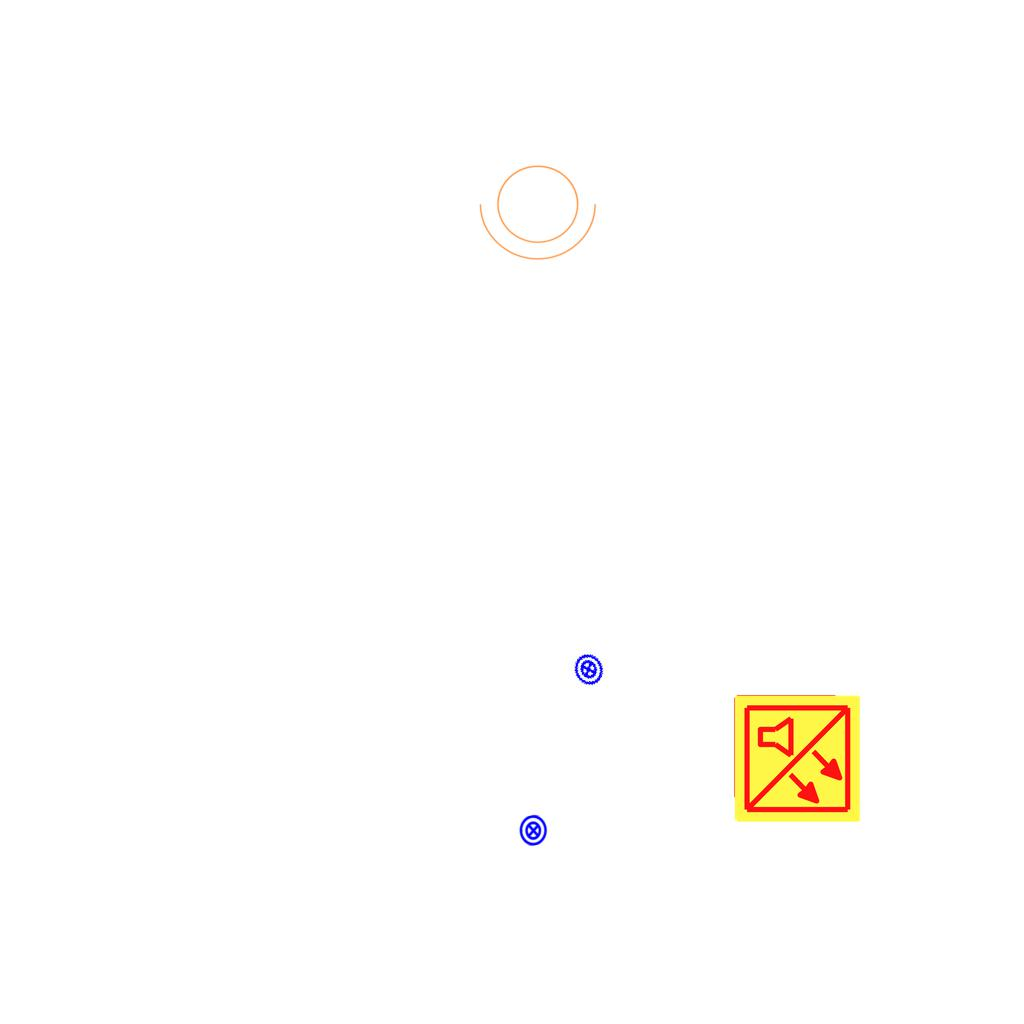OKW_Multisensormelder_(Kombination_optischer_Rauch-Kahlenmonoxid_Waerme-Melder): (731, 693, 863, 825)
Scheinwerfer_fuer_Alarmbeleuchtung: (475, 153, 607, 265)
Taster_beleuchtet: (567, 648, 610, 691), (516, 813, 551, 848)
